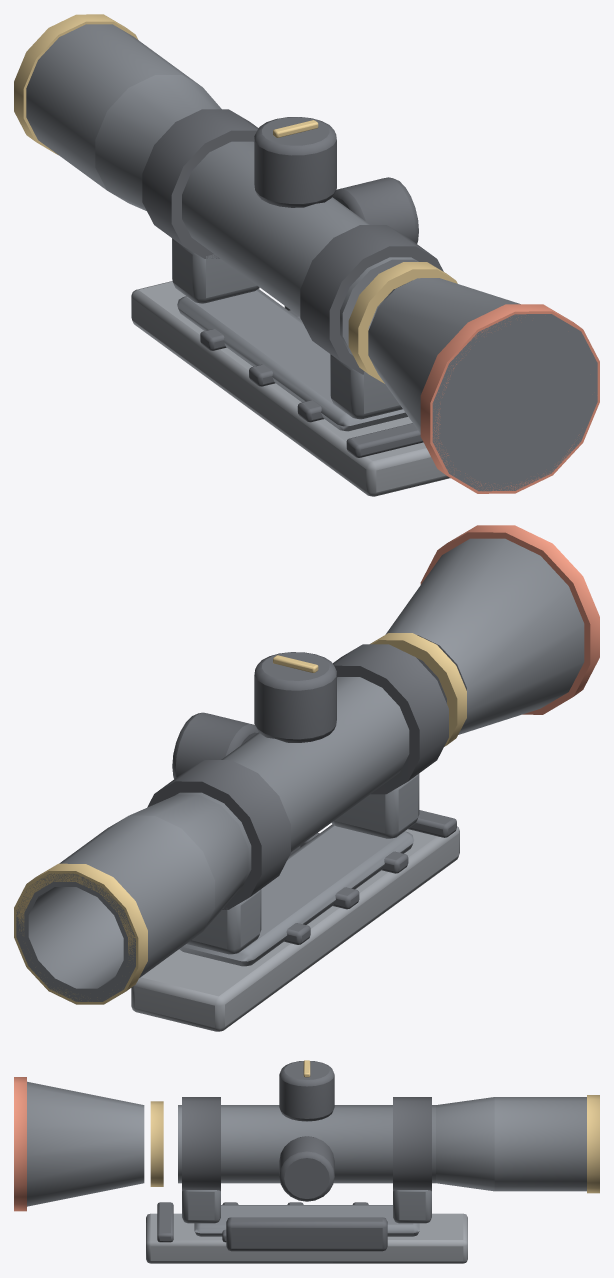
File: Optic_Scope4.glb
3 renders of one model, top to bottom at view 1: azimuth 30°, elevation 25°; view 2: azimuth 150°, elevation 25°; view 3: azimuth 270°, elevation 25°, orthographic. The views are drawn at different scales.
Parts seen in each view (by area): view 1: Cube.005, Cube.001, Cube, Cylinder.006, Cylinder.004; view 2: Cube.005, Cube.001, Cube, Cylinder.006, Cylinder.004; view 3: Cube.005, Cube.001, Cube, Cylinder.006, Cylinder.004.
Boxes of the visible parts, x1,y1,x2,y2 form: Cube.005: (26,24,597,491); Cube.001: (142,109,443,457); Cube: (131,281,450,496); Cylinder.006: (14,14,457,383); Cylinder.004: (420,304,599,493); Cube.005: (16,538,584,1001); Cube.001: (147,644,456,944); Cube: (131,826,459,1031); Cylinder.006: (14,633,466,1004); Cylinder.004: (420,525,599,714); Cube.005: (27,1081,586,1236); Cube.001: (157,1061,431,1251); Cube: (146,1213,467,1263); Cylinder.006: (150,1060,599,1193); Cylinder.004: (14,1077,26,1211).
Bounding box in the file's own units: 0.0451 × 0.0623 × 0.18.
